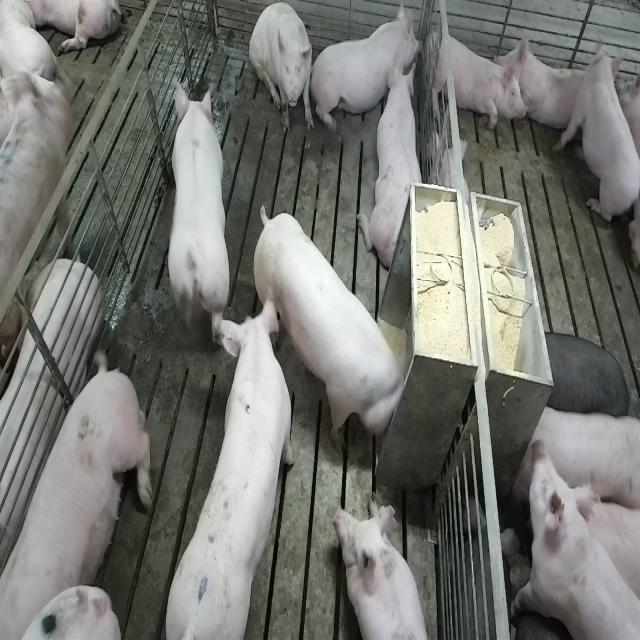Feeding: (255, 202, 416, 454)
Lateral_lying: (5, 361, 159, 640), (0, 260, 102, 576)
Sitting: (250, 4, 314, 138)
Standing: (157, 291, 297, 635), (518, 450, 637, 640), (0, 85, 72, 375), (159, 81, 230, 346), (537, 324, 634, 422)
Sternal_lying: (336, 498, 435, 640), (363, 58, 426, 268), (567, 41, 638, 227), (314, 6, 422, 128), (499, 28, 590, 145), (423, 25, 517, 135)
